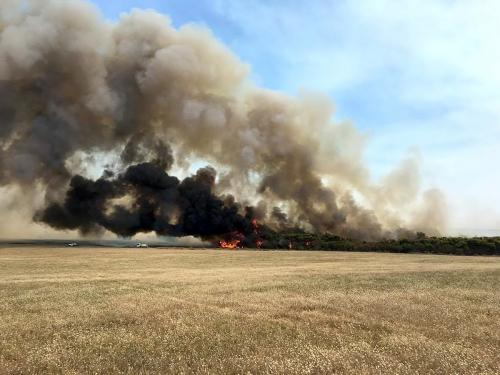smoke: (8, 9, 442, 251)
